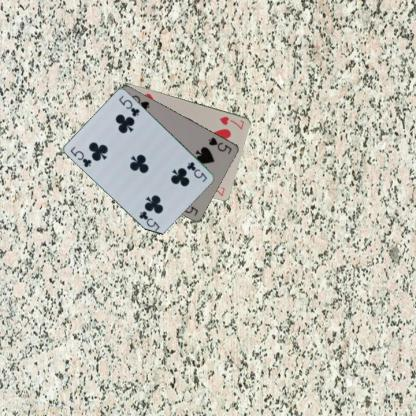5c: (184, 159, 209, 184), (68, 144, 93, 169)
5s: (206, 134, 234, 156)
7h: (217, 114, 246, 130)
